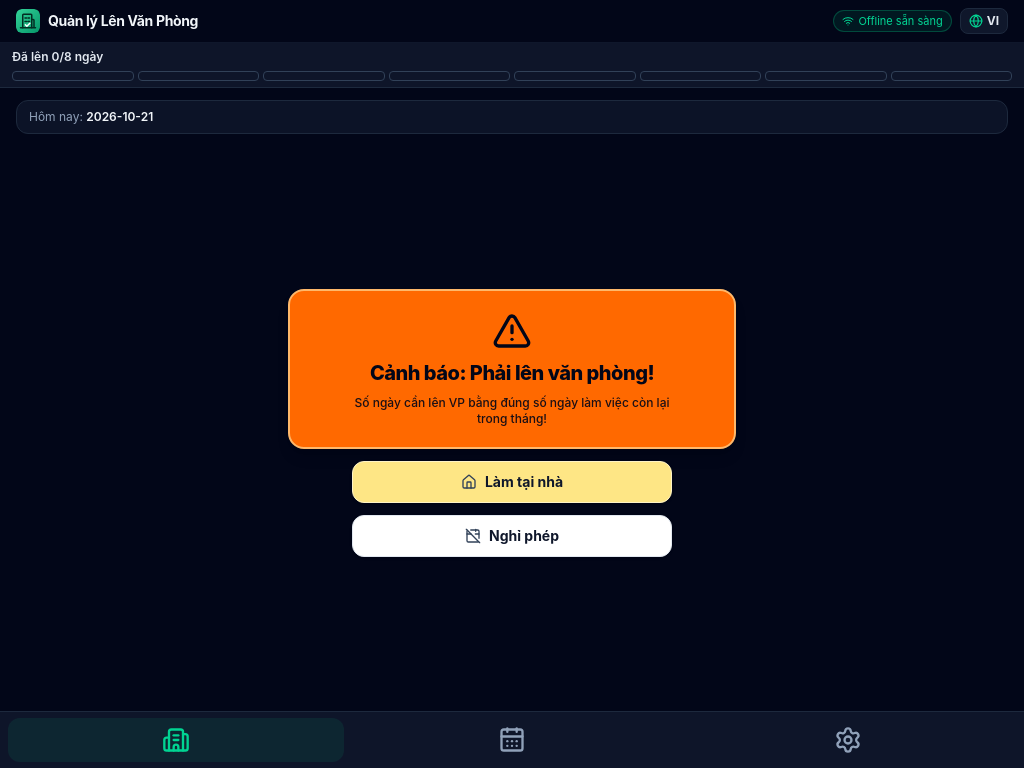
Test case: Full App UI Integration Tests (MainTab, CalendarTab, SettingsTab, TopProgressBar, Bilingual & Swipe) › confirms work from home on the main tab and shows it as a status
Click the button with test id "btn-mark-work" at [512, 482], box [352,460,672,502]
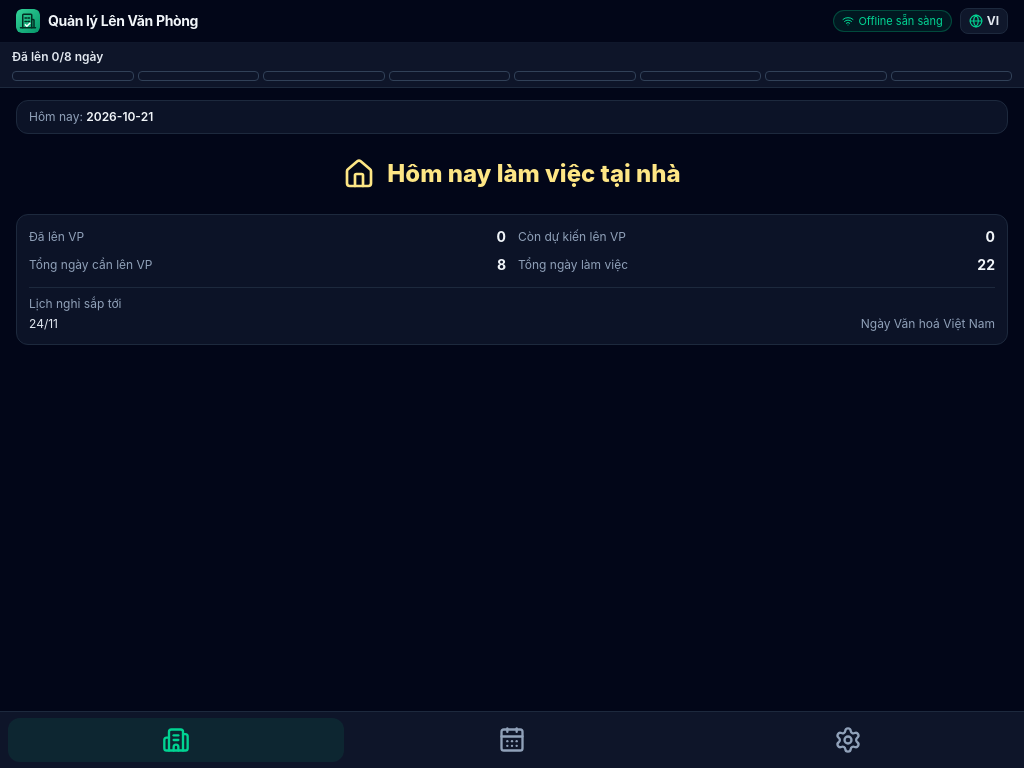
Expected: the button with test id "btn-mark-work" is gone
Expected: the button with test id "btn-checkin-office" is gone
Expected: the element with test id "today-status-indicator" reads "Hôm nay làm việc tại nhà", [387,159,681,188]
